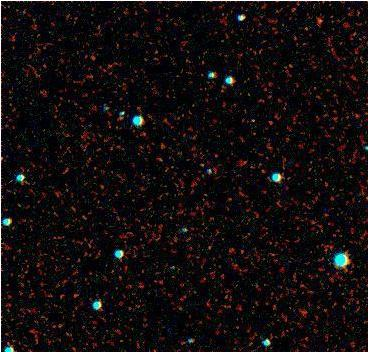star: (305, 5, 335, 35)
